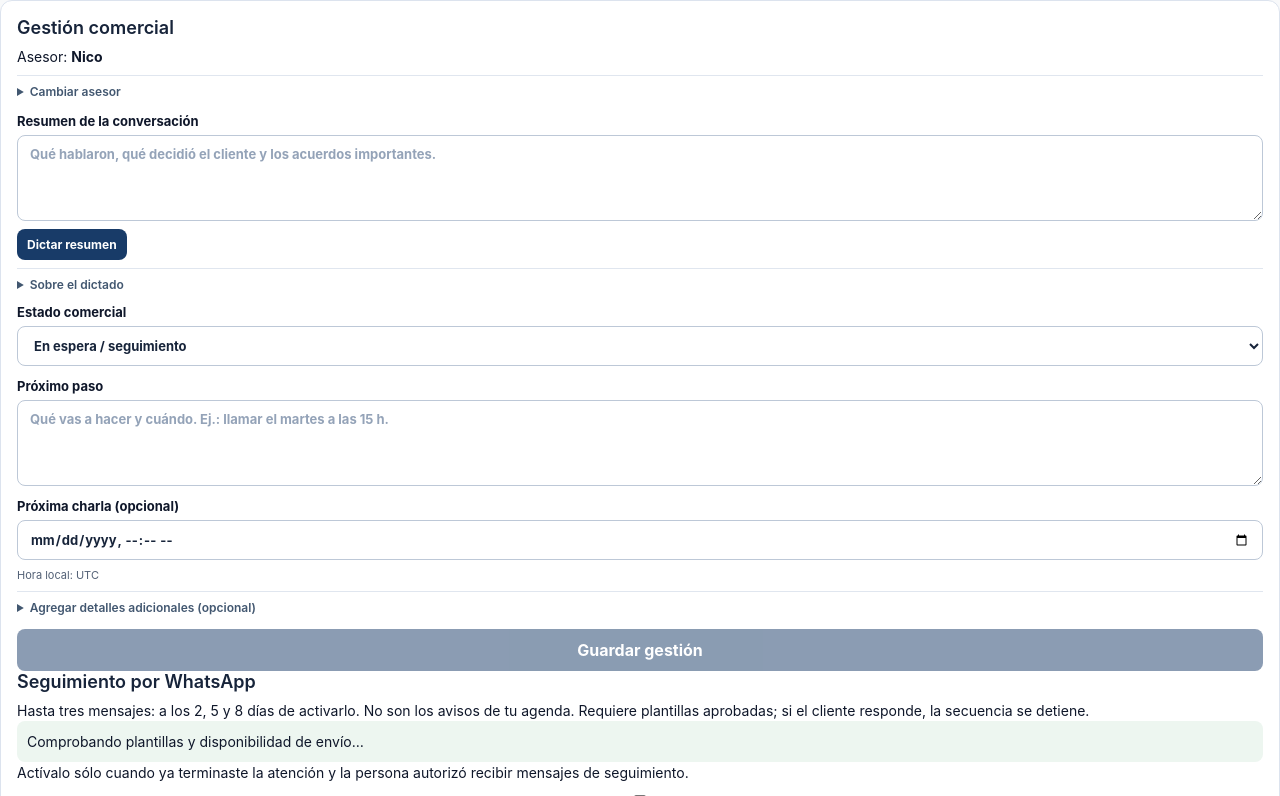
Test: waiting case with a new unsaved note cannot activate automatic followup
Expected: the dropdown labelled "Estado comercial" is shown, [17,326,1263,366]
Replace the text in the text box labelled "Resumen de la conversación" with "Nuevo acuerdo aún no guardado" at (640,178), box [17,135,1263,221]
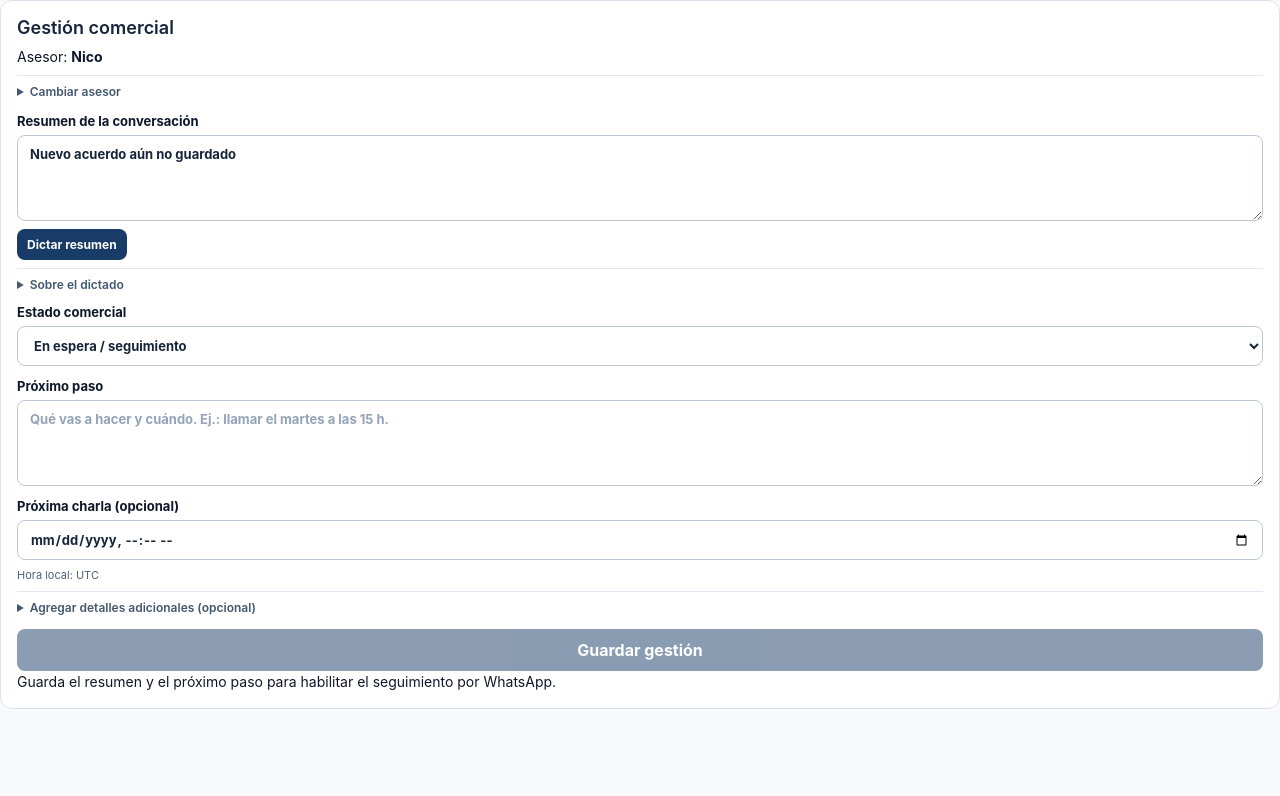
Expected: the text "Guarda el resumen y el próximo paso" is shown, [17,673,556,690]
